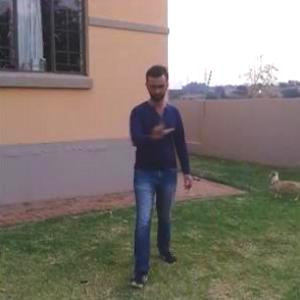land_hand: (146, 111, 174, 143)
